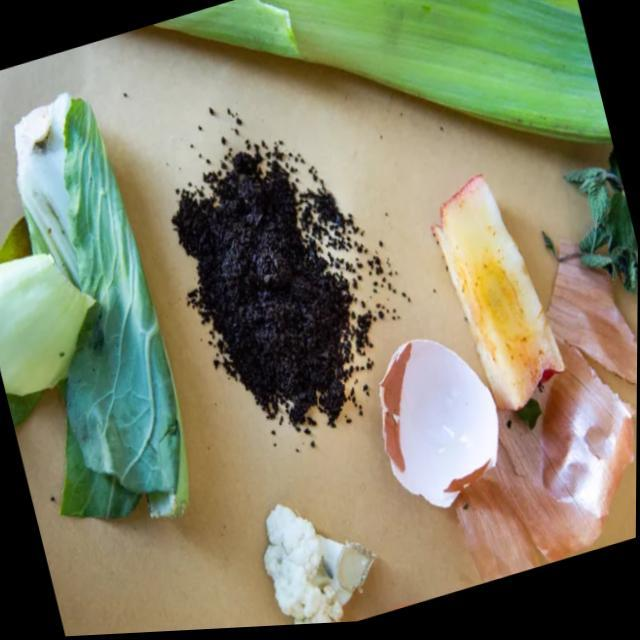fabric: (96, 0, 612, 280), (364, 148, 639, 599), (0, 53, 214, 566), (174, 99, 430, 474), (418, 111, 600, 445), (346, 307, 537, 523), (214, 476, 388, 631)
